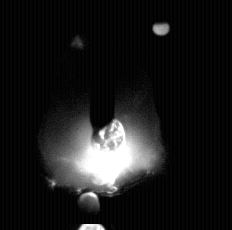arame: (91, 0, 116, 143)
poca: (36, 0, 161, 230)
